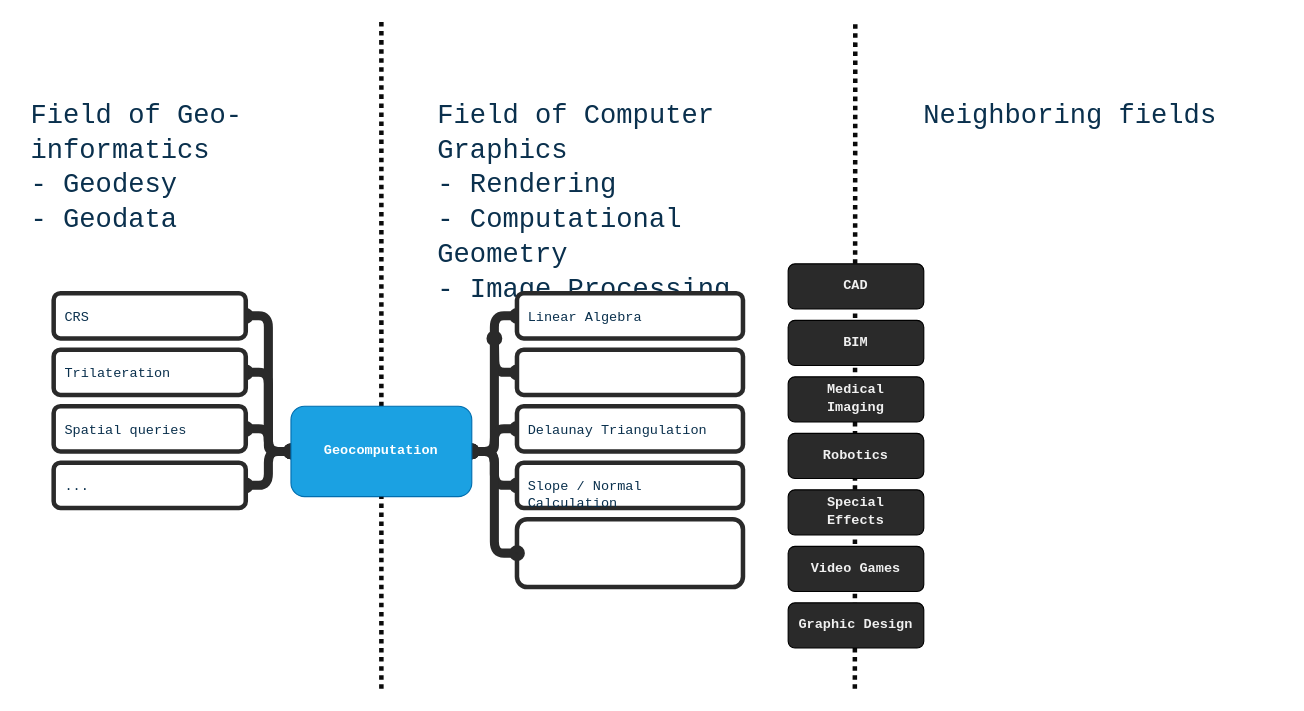
The diagram is 1304 pixels wide and 711 high, and some of its shapes have lost their labels. Here are the shapes that lost their labels. From the top down, the box of each, then its label:
(514, 347, 745, 397): Marching Squares
(514, 516, 745, 589): Isovist / Viewshed Calculation
